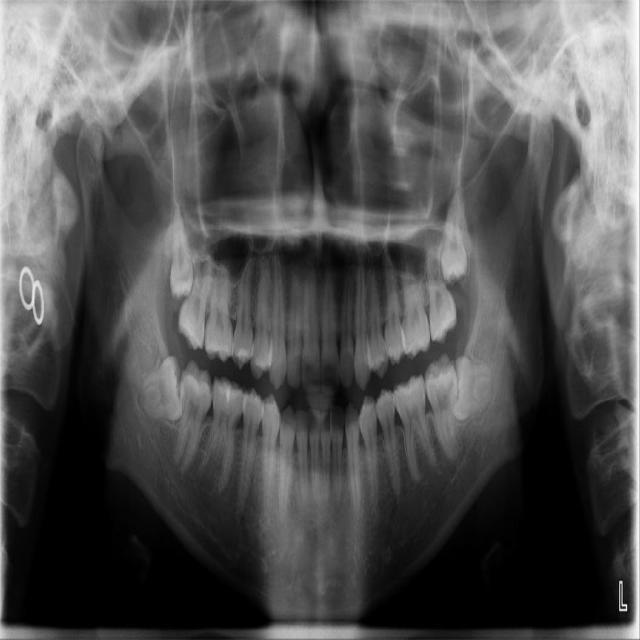impacted tooth: (136, 359, 184, 419), (441, 185, 469, 283), (453, 359, 494, 420), (170, 203, 194, 300)
